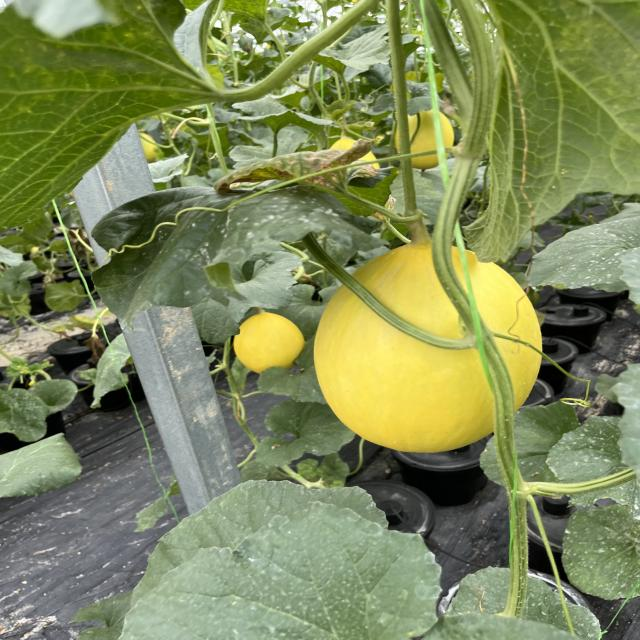alternaria leaf blight: (215, 138, 377, 193)
downy mildew: (94, 503, 437, 640), (1, 0, 185, 238)
